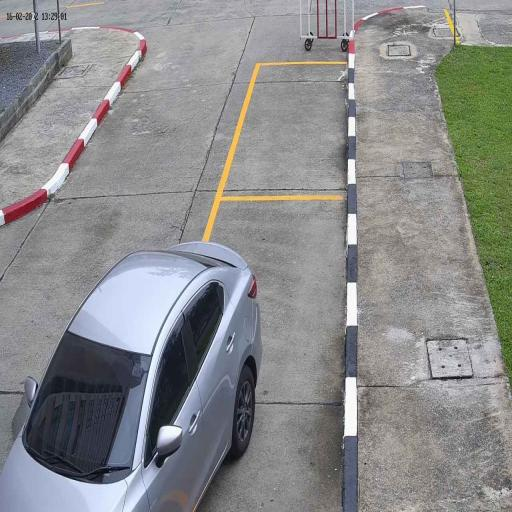car: (0, 237, 264, 512)
